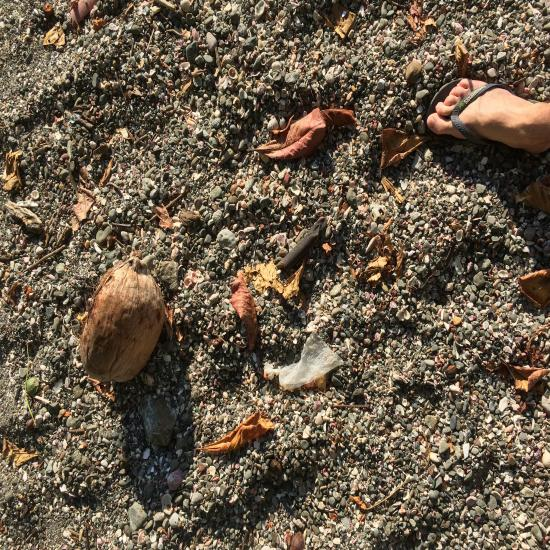Plastic film: (264, 329, 344, 389)
